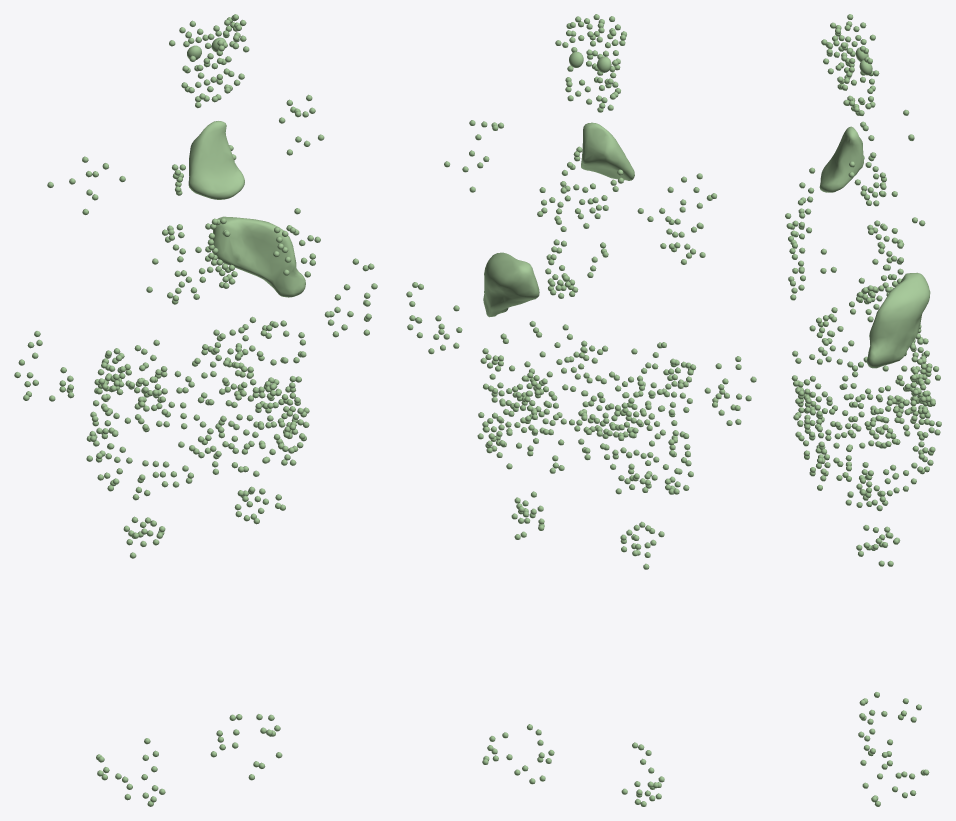
Rendered from pediatric_child_5y_female.lymphatic.LOD0.glb.
3 renders of one model, left to right at view 1: azimuth 30°, elevation 25°; view 2: azimuth 150°, elevation 25°; view 3: azimuth 270°, elevation 25°, orthographic. The views are drawn at different scales.
Visible parts, largest first — view 1: PEDIATRIC.CHILD_5Y.FEMALE.LYMPHATIC.LYMPHATIC_NODES_TRUNK, PEDIATRIC.CHILD_5Y.FEMALE.LYMPHATIC.SPLEEN, PEDIATRIC.CHILD_5Y.FEMALE.LYMPHATIC.THYMUS, PEDIATRIC.CHILD_5Y.FEMALE.LYMPHATIC.LYMPHATIC_NODES_ET, PEDIATRIC.CHILD_5Y.FEMALE.LYMPHATIC.LYMPHATIC_NODES_THORACIC, PEDIATRIC.CHILD_5Y.FEMALE.LYMPHATIC.LYMPHATIC_NODES_LEGS, PEDIATRIC.CHILD_5Y.FEMALE.LYMPHATIC.LYMPHATIC_NODES_ARMS; view 2: PEDIATRIC.CHILD_5Y.FEMALE.LYMPHATIC.LYMPHATIC_NODES_TRUNK, PEDIATRIC.CHILD_5Y.FEMALE.LYMPHATIC.SPLEEN, PEDIATRIC.CHILD_5Y.FEMALE.LYMPHATIC.THYMUS, PEDIATRIC.CHILD_5Y.FEMALE.LYMPHATIC.LYMPHATIC_NODES_THORACIC, PEDIATRIC.CHILD_5Y.FEMALE.LYMPHATIC.LYMPHATIC_NODES_ET, PEDIATRIC.CHILD_5Y.FEMALE.LYMPHATIC.LYMPHATIC_NODES_ARMS, PEDIATRIC.CHILD_5Y.FEMALE.LYMPHATIC.LYMPHATIC_NODES_LEGS; view 3: PEDIATRIC.CHILD_5Y.FEMALE.LYMPHATIC.LYMPHATIC_NODES_TRUNK, PEDIATRIC.CHILD_5Y.FEMALE.LYMPHATIC.SPLEEN, PEDIATRIC.CHILD_5Y.FEMALE.LYMPHATIC.THYMUS, PEDIATRIC.CHILD_5Y.FEMALE.LYMPHATIC.LYMPHATIC_NODES_ET, PEDIATRIC.CHILD_5Y.FEMALE.LYMPHATIC.LYMPHATIC_NODES_THORACIC, PEDIATRIC.CHILD_5Y.FEMALE.LYMPHATIC.LYMPHATIC_NODES_LEGS, PEDIATRIC.CHILD_5Y.FEMALE.LYMPHATIC.LYMPHATIC_NODES_ARMS, PEDIATRIC.CHILD_5Y.FEMALE.LYMPHATIC.LYMPHATIC_NODES_HEAD.
Part boxes in pixels (x1,y1,x2,y2): PEDIATRIC.CHILD_5Y.FEMALE.LYMPHATIC.LYMPHATIC_NODES_TRUNK: (47, 94, 324, 558); PEDIATRIC.CHILD_5Y.FEMALE.LYMPHATIC.SPLEEN: (212, 216, 305, 297); PEDIATRIC.CHILD_5Y.FEMALE.LYMPHATIC.THYMUS: (188, 121, 244, 199); PEDIATRIC.CHILD_5Y.FEMALE.LYMPHATIC.LYMPHATIC_NODES_ET: (169, 14, 249, 85); PEDIATRIC.CHILD_5Y.FEMALE.LYMPHATIC.LYMPHATIC_NODES_THORACIC: (165, 145, 237, 288); PEDIATRIC.CHILD_5Y.FEMALE.LYMPHATIC.LYMPHATIC_NODES_LEGS: (96, 714, 282, 806); PEDIATRIC.CHILD_5Y.FEMALE.LYMPHATIC.LYMPHATIC_NODES_ARMS: (14, 258, 377, 401); PEDIATRIC.CHILD_5Y.FEMALE.LYMPHATIC.LYMPHATIC_NODES_TRUNK: (444, 120, 716, 569); PEDIATRIC.CHILD_5Y.FEMALE.LYMPHATIC.SPLEEN: (483, 252, 539, 317); PEDIATRIC.CHILD_5Y.FEMALE.LYMPHATIC.THYMUS: (581, 122, 634, 180); PEDIATRIC.CHILD_5Y.FEMALE.LYMPHATIC.LYMPHATIC_NODES_THORACIC: (545, 146, 623, 298); PEDIATRIC.CHILD_5Y.FEMALE.LYMPHATIC.LYMPHATIC_NODES_ET: (555, 14, 626, 90); PEDIATRIC.CHILD_5Y.FEMALE.LYMPHATIC.LYMPHATIC_NODES_ARMS: (406, 282, 756, 425); PEDIATRIC.CHILD_5Y.FEMALE.LYMPHATIC.LYMPHATIC_NODES_LEGS: (482, 724, 664, 806); PEDIATRIC.CHILD_5Y.FEMALE.LYMPHATIC.LYMPHATIC_NODES_TRUNK: (785, 85, 941, 566); PEDIATRIC.CHILD_5Y.FEMALE.LYMPHATIC.SPLEEN: (867, 272, 930, 368); PEDIATRIC.CHILD_5Y.FEMALE.LYMPHATIC.THYMUS: (819, 126, 863, 192); PEDIATRIC.CHILD_5Y.FEMALE.LYMPHATIC.LYMPHATIC_NODES_ET: (821, 14, 879, 90); PEDIATRIC.CHILD_5Y.FEMALE.LYMPHATIC.LYMPHATIC_NODES_THORACIC: (848, 152, 904, 304); PEDIATRIC.CHILD_5Y.FEMALE.LYMPHATIC.LYMPHATIC_NODES_LEGS: (858, 692, 929, 806); PEDIATRIC.CHILD_5Y.FEMALE.LYMPHATIC.LYMPHATIC_NODES_ARMS: (855, 234, 902, 448); PEDIATRIC.CHILD_5Y.FEMALE.LYMPHATIC.LYMPHATIC_NODES_HEAD: (837, 71, 873, 115).
Bounding box in the file's own units: 0.3441 × 0.7252 × 0.1361.
